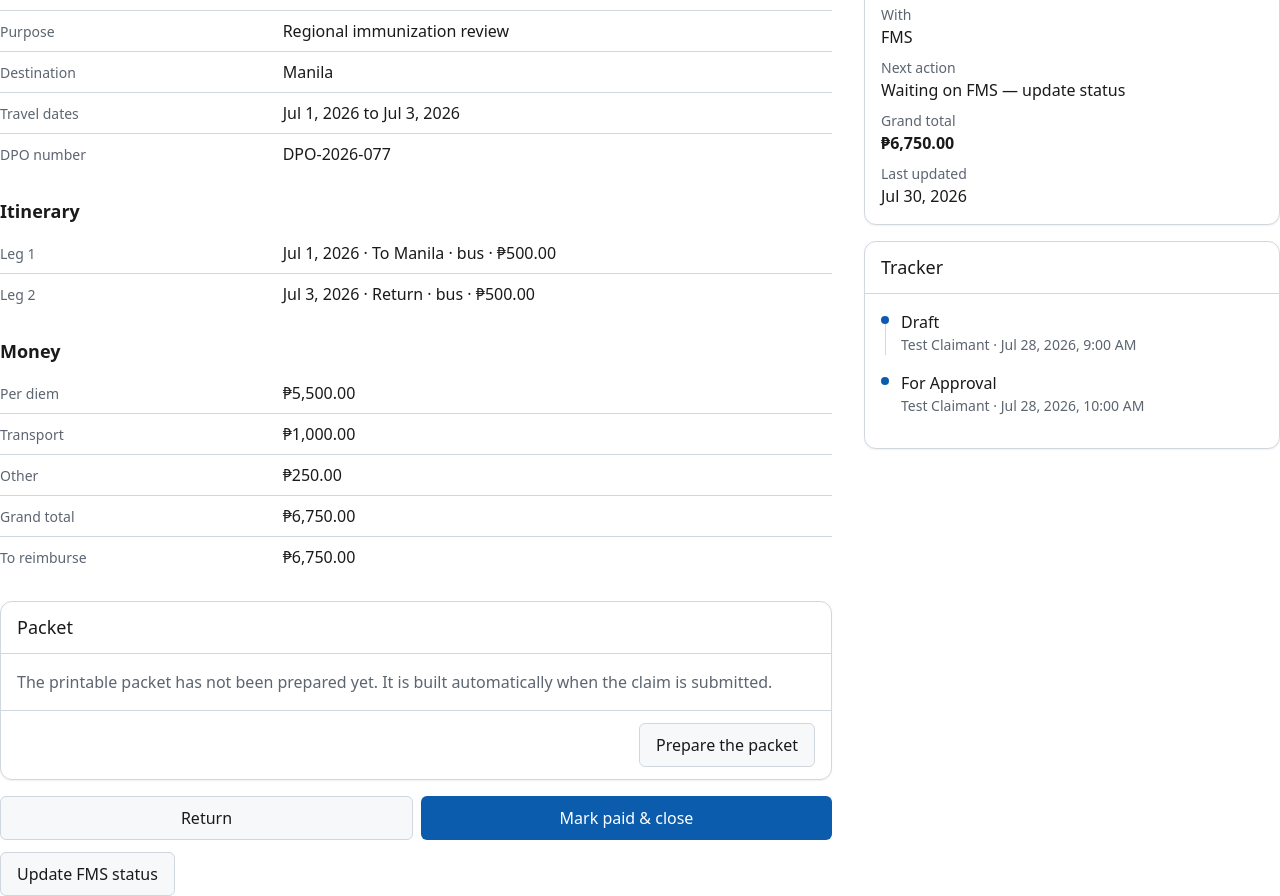
it: ClaimPage — the FMS leg › will not close a claim without a payment reference
The width and height of the screenshot is (1280, 896).
(page scrolled)
Click the button "Mark paid & close" at x=626, y=818, box [421, 796, 832, 840]
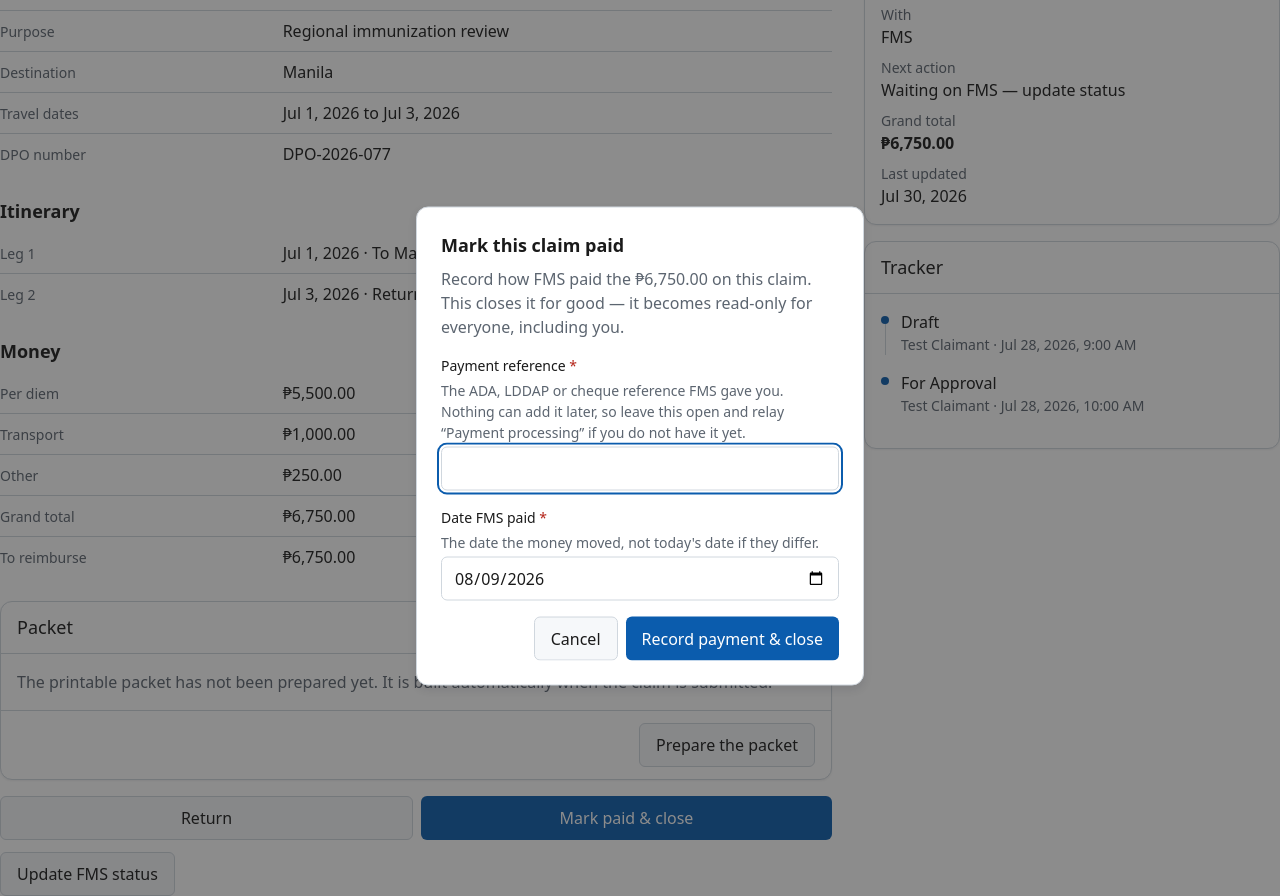
Click the button "Record payment & close" at x=732, y=638, box [626, 616, 839, 660]
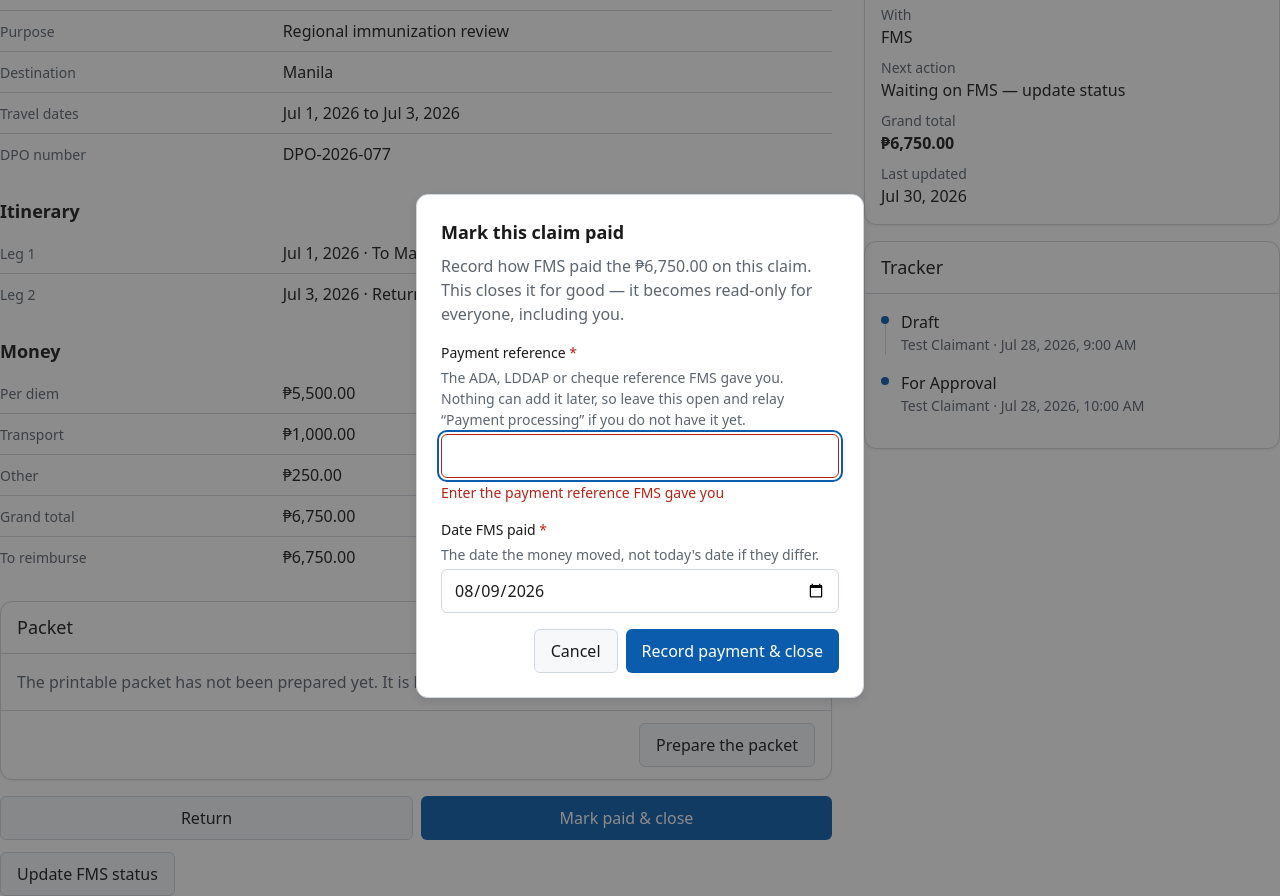
Expected: the text "Enter the payment reference FMS gave you" is shown, [441, 483, 724, 502]
